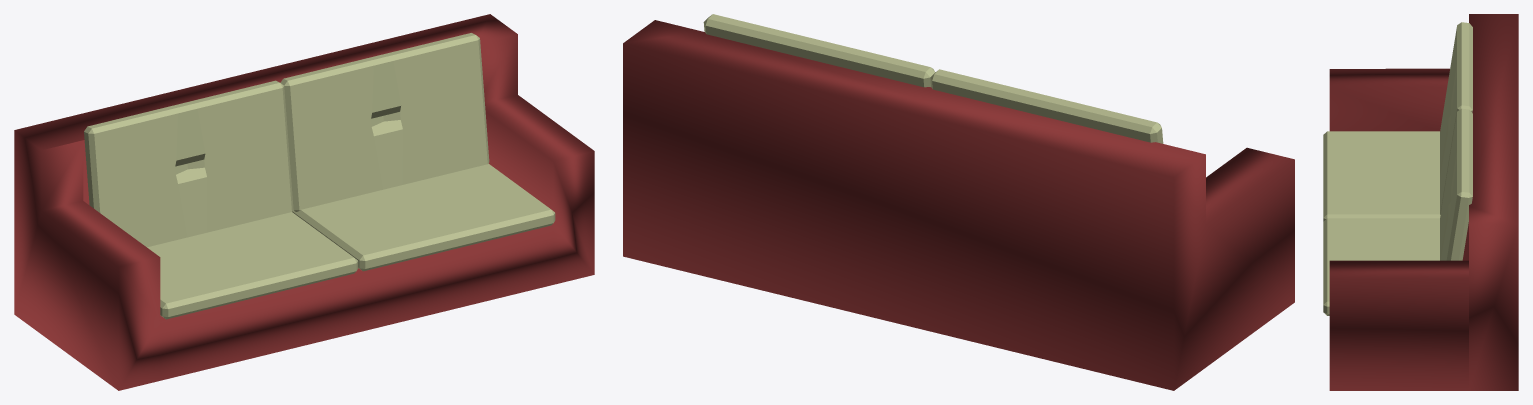
The model's file is Sofa for Lobby.fbx.
The picture shows the model from 3 angles, left to right: view 1: azimuth 30°, elevation 25°; view 2: azimuth 150°, elevation 25°; view 3: azimuth 270°, elevation 25°; orthographic projection. The views are drawn at different scales.
Parts seen in each view (by area): view 1: Combined_Sofa1; view 2: Combined_Sofa1; view 3: Combined_Sofa1.
Boxes of the visible parts, <box> form: Combined_Sofa1: <box>14,14,594,390</box>; Combined_Sofa1: <box>623,14,1294,390</box>; Combined_Sofa1: <box>1323,14,1518,390</box>.
Size of the model in its own units: 31.32 by 12.43 by 12.31.
